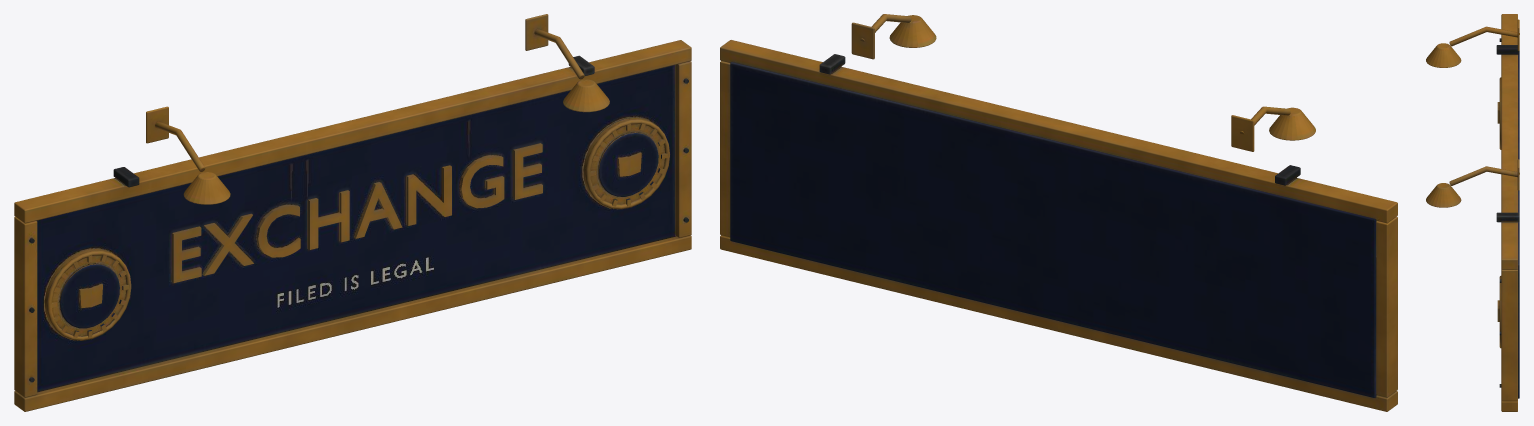
File: sign_exchange.glb
The picture shows the model from 3 angles, left to right: view 1: azimuth 30°, elevation 25°; view 2: azimuth 150°, elevation 25°; view 3: azimuth 270°, elevation 25°; orthographic projection. The views are drawn at different scales.
Visible parts, largest first — view 1: sign_exchange; view 2: sign_exchange; view 3: sign_exchange.
Boxes of the visible parts, <box> form: sign_exchange: <box>14,14,691,411</box>; sign_exchange: <box>720,14,1397,411</box>; sign_exchange: <box>1426,14,1519,411</box>.
Bounding box in the file's own units: 3.52 × 1.31 × 0.5685.
Materials: 2 (2 with a texture image).
